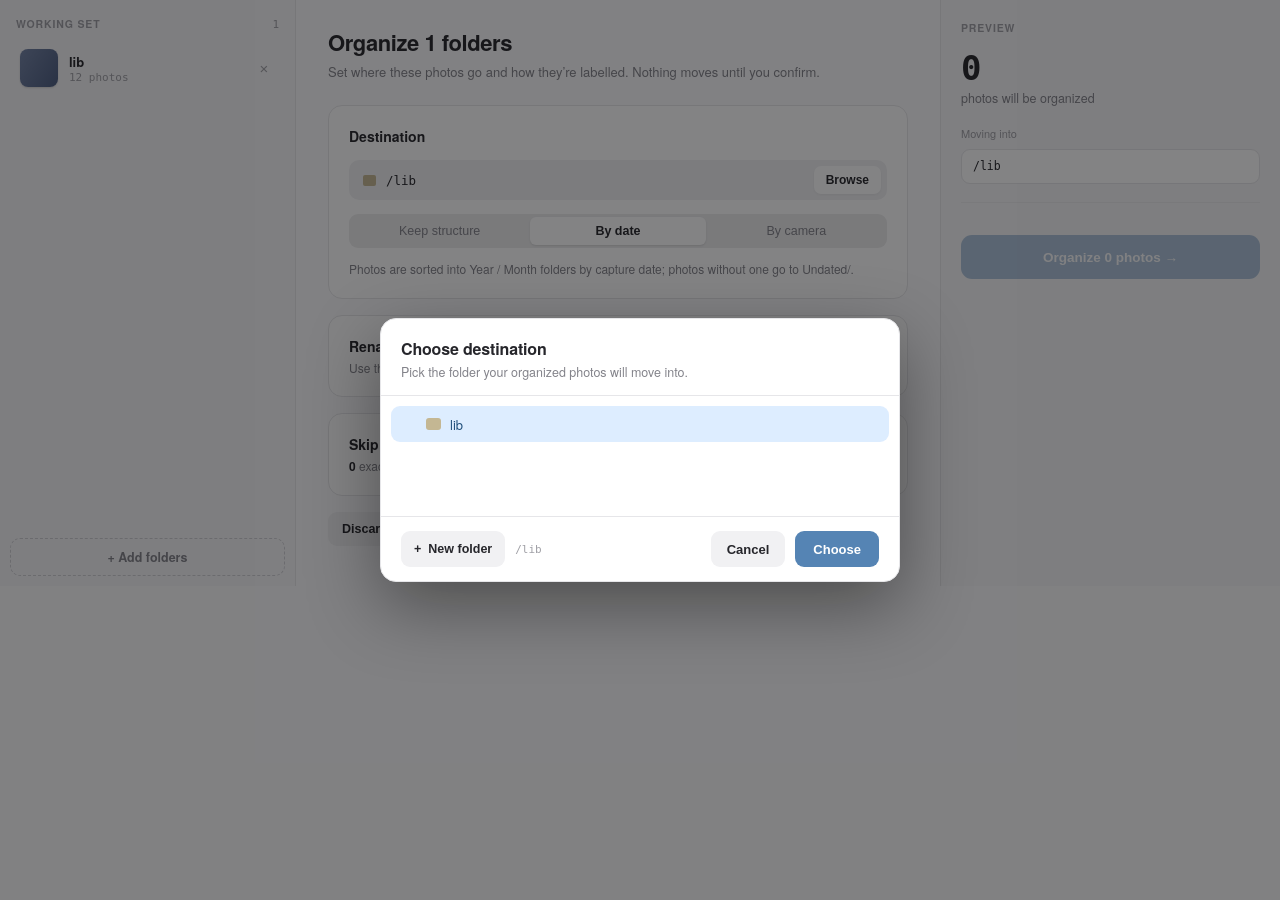
Test: OrganizeView › the destination picker accepts a typed absolute path
The width and height of the screenshot is (1280, 900).
Click the button with class "new-folder" at (453, 549), box x1=401 y1=531 x2=505 y2=567
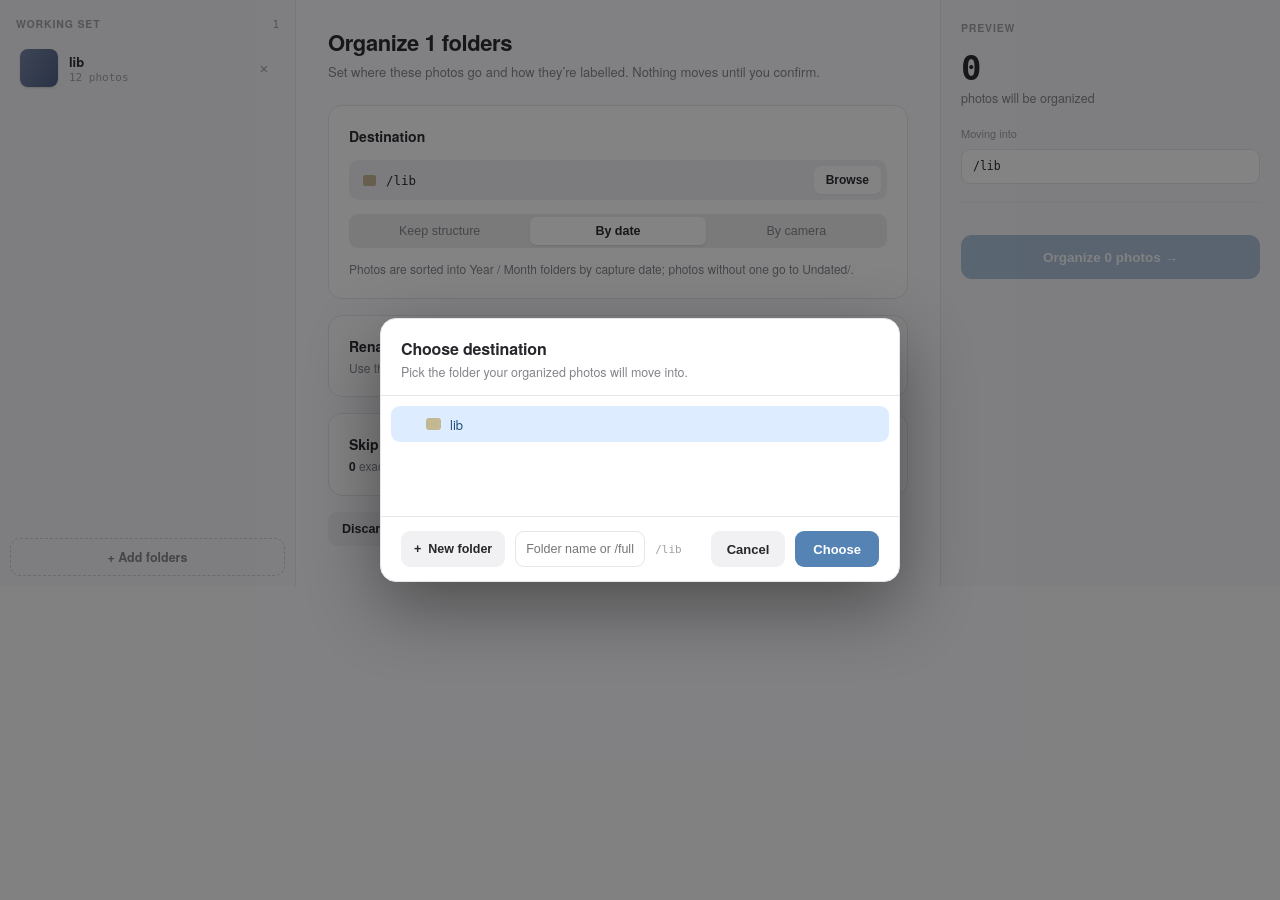
Type "/Volumes/TimDrive/Updated" into the field with class "new-input" at (580, 549), box x1=515 y1=531 x2=645 y2=567
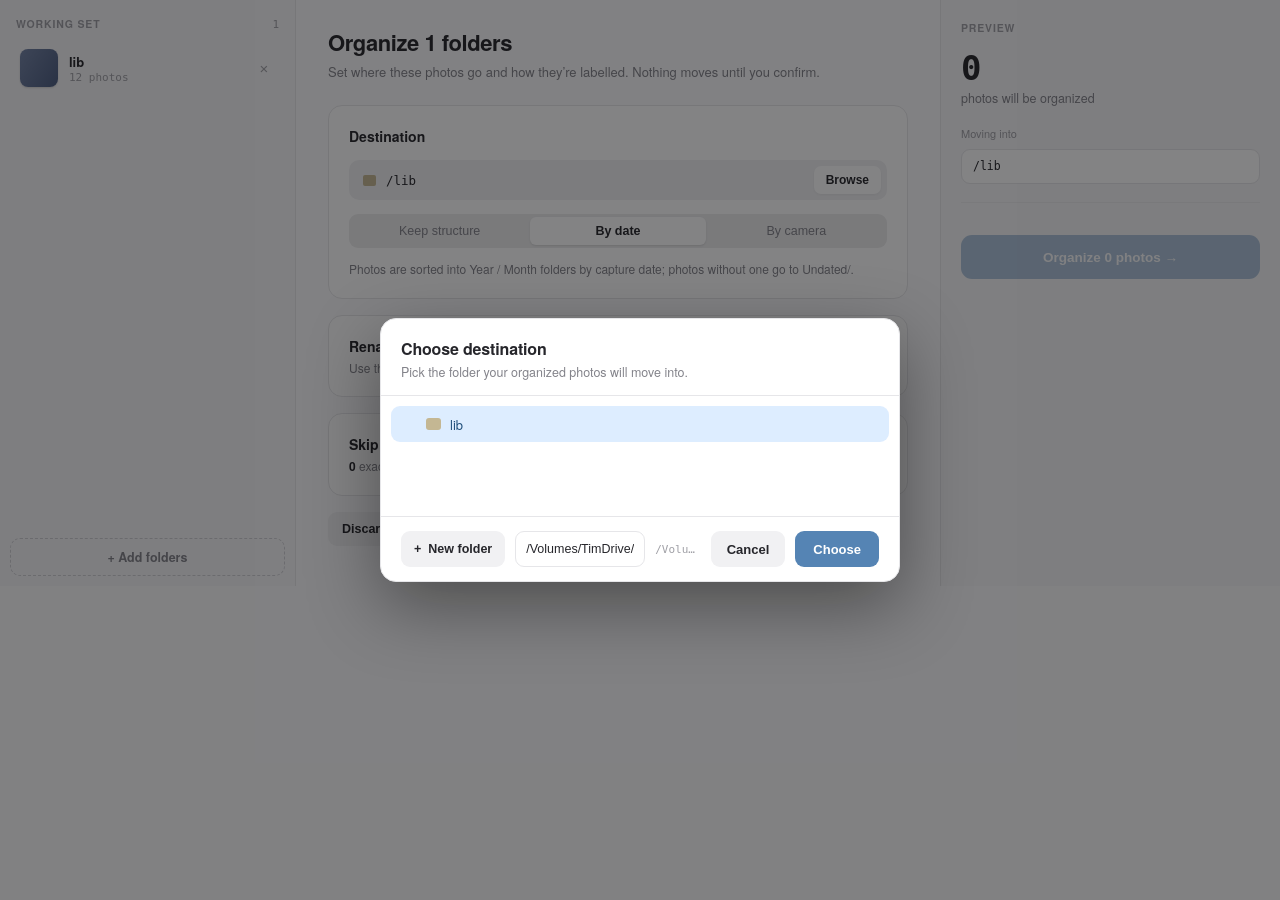
Click the button with class "choose" at (837, 549), box x1=795 y1=531 x2=879 y2=567
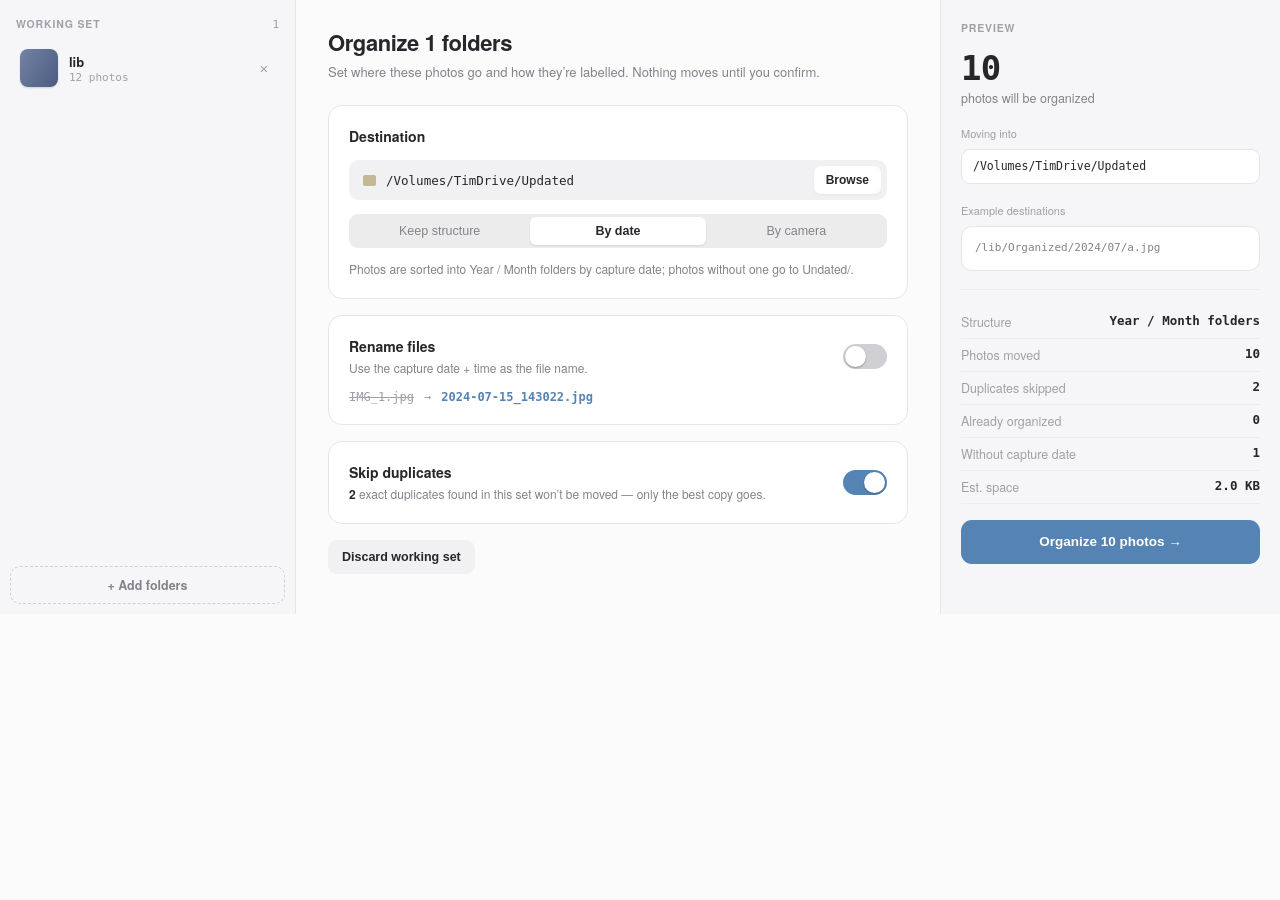
Expected: the text "/Volumes/TimDrive/Updated" below "Organize 1 folders" is shown, x1=386 y1=172 x2=574 y2=188
